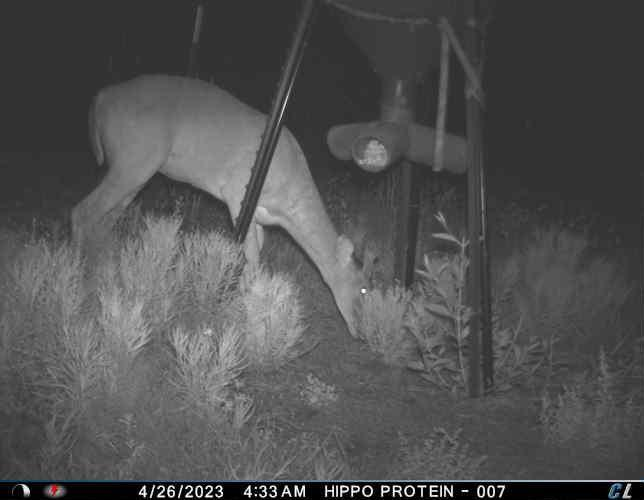Deer: (66, 71, 385, 344)
